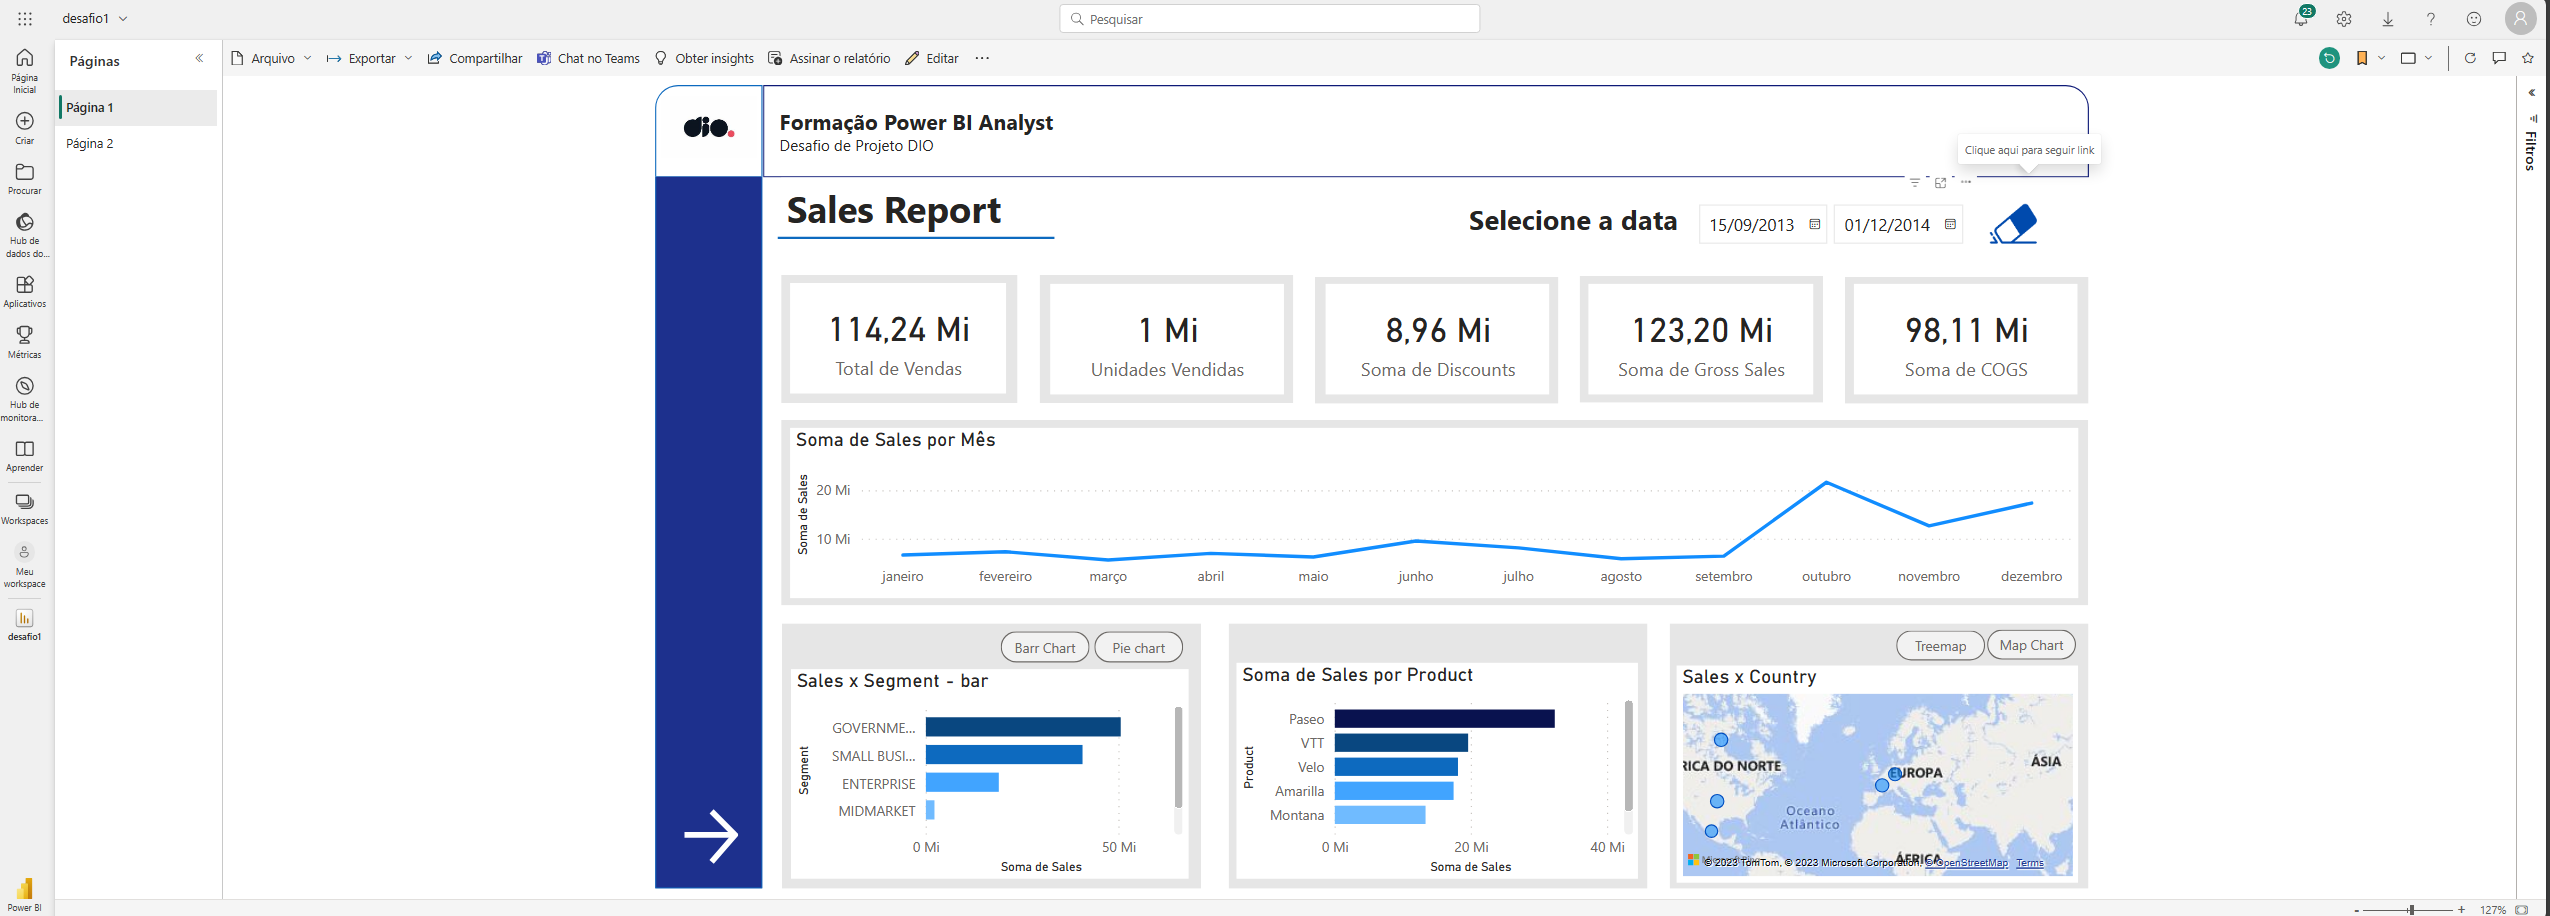

The dashboard page shown, as its layout file describes it:
{"tool":"powerbi","page":{"name":"Página 1","canvas":[1280,720],"ordinal":0},"visuals":[{"type":"shape","box":[39.4,9.1,1229.3,702],"z":0},{"type":"slicer","fields":{"Values":["financials.Date"]},"box":[914.7,102.5,257.6,58.6],"z":0,"group":"g4"},{"type":"shape","box":[125,173.4,207.1,112.1],"z":0,"group":"g1"},{"type":"actionButton","title":"Map","box":[1179.6,483.8,77.8,26.3],"z":0,"group":"g2"},{"type":"clusteredBarChart","title":"Sales x Segment - bar","fields":{"Category":["financials.Segment"],"Y":["Sum(financials. Sales)"]},"box":[133.6,518.9,347.5,183.4],"z":0,"group":"g3"},{"type":"shape","box":[15.3,7.7,94,702.8],"z":1000},{"type":"actionButton","box":[1167,86.4,100.4,86.6],"z":1000,"group":"g4"},{"type":"shape","box":[351.3,173.4,222.2,112.1],"z":1000,"group":"g1"},{"type":"actionButton","title":"Treemap","box":[1099.8,484.7,77.8,26.3],"z":1000,"group":"g2"},{"type":"shape","box":[15.3,7.7,94,80.5],"z":2000},{"type":"shape","box":[592.2,175,213.1,111.1],"z":2000,"group":"g1"},{"type":"actionButton","title":"Pie","box":[399,485.9,77.8,27.3],"z":2000,"group":"g3"},{"type":"map","title":"Sales x Country","fields":{"Category":["financials.Country"],"Size":["Sum(financials. Sales)"]},"box":[908,515.3,351.5,189.9],"z":2000,"group":"g2"},{"type":"textbox","box":[722.2,103.6,200.6,51],"z":3000},{"type":"shape","box":[1055.8,175,213.1,111.1],"z":3000,"group":"g1"},{"type":"actionButton","title":"Barr","box":[317.1,485.9,77.8,27.3],"z":3000,"group":"g3"},{"type":"image","title":"DIO","box":[15.2,0,94,88.7],"z":4000},{"type":"card","fields":{"Values":["Sum(financials. Sales)"]},"box":[133.3,180.8,188.9,97],"z":4000,"group":"g1"},{"type":"shape","box":[109.1,8.1,1159.6,80.8],"z":5000},{"type":"card","fields":{"Values":["Sum(financials.Units Sold)"]},"box":[360.6,181.8,204,97],"z":5000,"group":"g1"},{"type":"textbox","box":[119.1,21.5,275.8,54.6],"z":6000},{"type":"card","fields":{"Values":["Sum(financials.COGS)"]},"box":[1063.6,181.8,196,97],"z":6000,"group":"g1"},{"type":"shape","box":[823.2,174.7,213.1,111.1],"z":7000},{"type":"card","fields":{"Values":["Sum(financials.Gross Sales)"]},"box":[831.3,181.8,197,97],"z":7000,"group":"g1"},{"type":"textbox","box":[125.3,88.9,269.7,53.5],"z":8000},{"type":"card","fields":{"Values":["Sum(financials.Discounts)"]},"box":[601,181.8,196,97],"z":8000,"group":"g1"},{"type":"shape","box":[122,123.2,242.7,35.8],"z":9000,"group":"g1"},{"type":"shape","box":[125.3,301,1143.4,162.6],"z":9000},{"type":"shape","box":[126.3,478.8,366.7,232.3],"z":10000},{"type":"shape","box":[516.2,478.8,366.7,232.3],"z":11000},{"type":"shape","box":[902,478.8,366.7,232.3],"z":12000},{"type":"lineChart","fields":{"Y":["Sum(financials. Sales)"],"Category":["financials.Date.Variation.Hierarquia de datas.Mês"]},"box":[133.3,308.1,1126.3,148.5],"z":13000},{"type":"clusteredBarChart","fields":{"Category":["financials.Product"],"Y":["Sum(financials. Sales)"]},"box":[523.2,513.1,351.5,188.9],"z":14000},{"type":"group","id":"g1","title":"Cartões","box":[122,123.2,1146.9,162.9],"z":15000},{"type":"group","id":"g2","title":"Sales x País","box":[908,483.8,351.5,221.4],"z":16000},{"type":"group","id":"g3","title":"Sales x Segment","box":[132.3,485.9,354.5,219.2],"z":17000},{"type":"actionButton","box":[33.3,634.3,58.6,60.6],"z":18000},{"type":"actionButton","box":[1095.7,642.5,99.6,77.2],"z":19000},{"type":"image","box":[1176.6,103.4,52.2,51.2],"z":20000},{"type":"group","id":"g4","title":"Clean","box":[914.7,86.4,352.8,86.6],"z":21000}]}

Visuals, with their boxes on the page's 1280x720 design canvas (x1, y1, x2, y2). These are canvas units, not pixel positions in the 2550x916 screenshot, which may show the page scaled, cropped or inside an application window:
shape: {"left": 39, "top": 9, "right": 1269, "bottom": 711}
slicer - financials.Date: {"left": 915, "top": 102, "right": 1172, "bottom": 161}
shape: {"left": 125, "top": 173, "right": 332, "bottom": 286}
"Map" actionButton: {"left": 1180, "top": 484, "right": 1257, "bottom": 510}
"Sales x Segment - bar" clusteredBarChart: {"left": 134, "top": 519, "right": 481, "bottom": 702}
shape: {"left": 15, "top": 8, "right": 109, "bottom": 710}
actionButton: {"left": 1167, "top": 86, "right": 1267, "bottom": 173}
shape: {"left": 351, "top": 173, "right": 574, "bottom": 286}
"Treemap" actionButton: {"left": 1100, "top": 485, "right": 1178, "bottom": 511}
shape: {"left": 15, "top": 8, "right": 109, "bottom": 88}
shape: {"left": 592, "top": 175, "right": 805, "bottom": 286}
"Pie" actionButton: {"left": 399, "top": 486, "right": 477, "bottom": 513}
"Sales x Country" map: {"left": 908, "top": 515, "right": 1260, "bottom": 705}
textbox: {"left": 722, "top": 104, "right": 923, "bottom": 155}
shape: {"left": 1056, "top": 175, "right": 1269, "bottom": 286}
"Barr" actionButton: {"left": 317, "top": 486, "right": 395, "bottom": 513}
"DIO" image: {"left": 15, "top": 0, "right": 109, "bottom": 89}
card - Sum(financials. Sales): {"left": 133, "top": 181, "right": 322, "bottom": 278}
shape: {"left": 109, "top": 8, "right": 1269, "bottom": 89}
card - Sum(financials.Units Sold): {"left": 361, "top": 182, "right": 565, "bottom": 279}
textbox: {"left": 119, "top": 22, "right": 395, "bottom": 76}
card - Sum(financials.COGS): {"left": 1064, "top": 182, "right": 1260, "bottom": 279}
shape: {"left": 823, "top": 175, "right": 1036, "bottom": 286}
card - Sum(financials.Gross Sales): {"left": 831, "top": 182, "right": 1028, "bottom": 279}
textbox: {"left": 125, "top": 89, "right": 395, "bottom": 142}
card - Sum(financials.Discounts): {"left": 601, "top": 182, "right": 797, "bottom": 279}
shape: {"left": 122, "top": 123, "right": 365, "bottom": 159}
shape: {"left": 125, "top": 301, "right": 1269, "bottom": 464}
shape: {"left": 126, "top": 479, "right": 493, "bottom": 711}
shape: {"left": 516, "top": 479, "right": 883, "bottom": 711}
shape: {"left": 902, "top": 479, "right": 1269, "bottom": 711}
lineChart - Sum(financials. Sales) x financials.Date.Variation.Hierarquia de datas.Mês: {"left": 133, "top": 308, "right": 1260, "bottom": 457}
clusteredBarChart - financials.Product x Sum(financials. Sales): {"left": 523, "top": 513, "right": 875, "bottom": 702}
"Cartões" group: {"left": 122, "top": 123, "right": 1269, "bottom": 286}
"Sales x País" group: {"left": 908, "top": 484, "right": 1260, "bottom": 705}
"Sales x Segment" group: {"left": 132, "top": 486, "right": 487, "bottom": 705}
actionButton: {"left": 33, "top": 634, "right": 92, "bottom": 695}
actionButton: {"left": 1096, "top": 642, "right": 1195, "bottom": 720}
image: {"left": 1177, "top": 103, "right": 1229, "bottom": 155}
"Clean" group: {"left": 915, "top": 86, "right": 1268, "bottom": 173}
